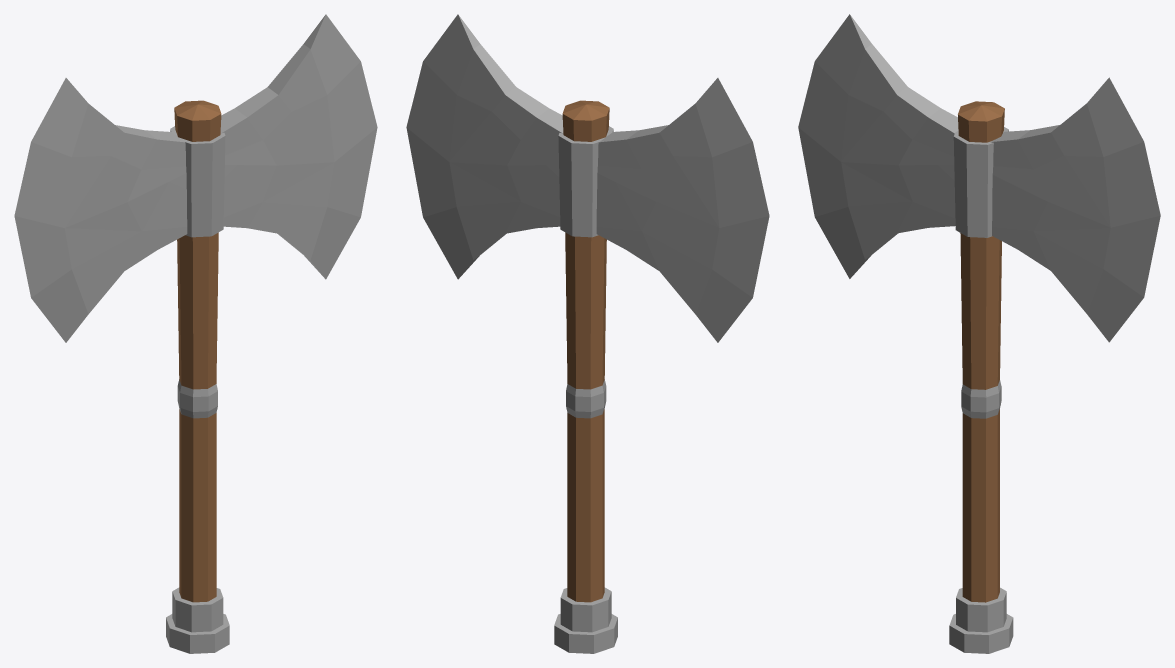
Rendered from axe_2.fbx.
3 views of the same model, side by side, from view 1: azimuth 30°, elevation 25°; view 2: azimuth 150°, elevation 25°; view 3: azimuth 330°, elevation 25° (orthographic).
Visible parts, largest first — view 1: Cube; view 2: Cube; view 3: Cube.
Part boxes in pixels (x1,y1,x2,y2): Cube: (14,14,377,653); Cube: (406,14,769,653); Cube: (798,14,1160,653).
Size of the model in its own units: 2.99 by 4.74 by 0.4884.
